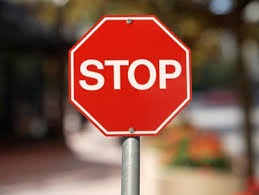SS: (71, 14, 191, 135)
